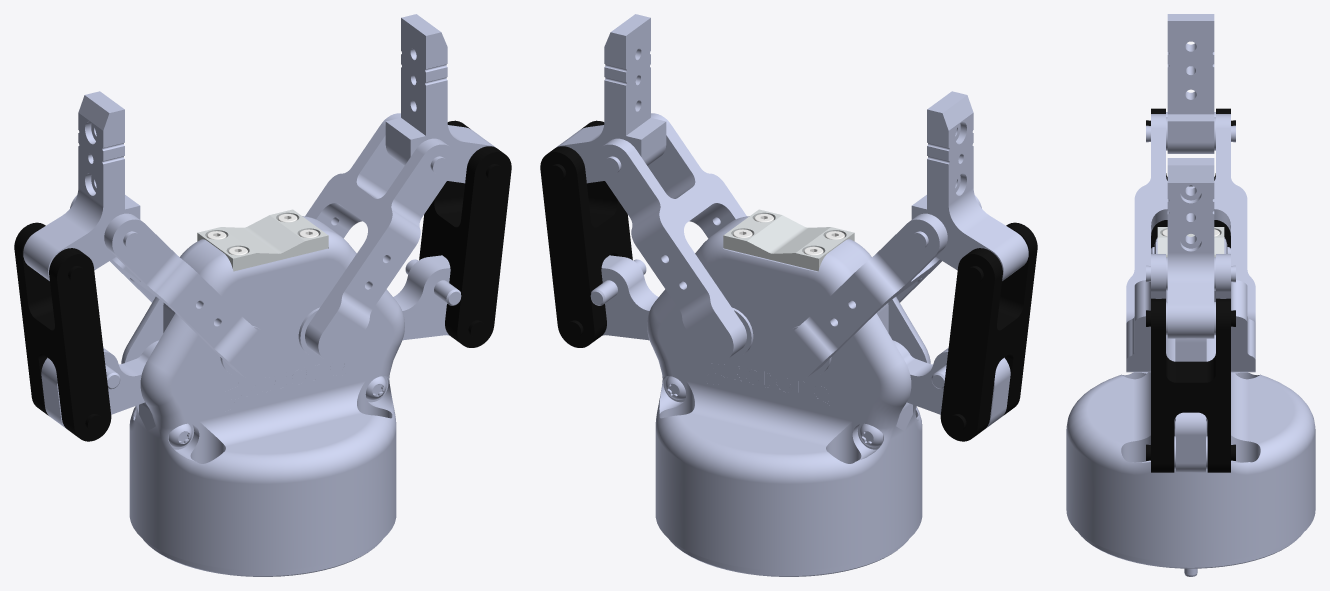
The model's file is gripper v3.fbx.
The picture shows the model from 3 angles, left to right: view 1: azimuth 30°, elevation 25°; view 2: azimuth 150°, elevation 25°; view 3: azimuth 270°, elevation 25°; orthographic projection. The views are drawn at different scales.
Parts seen in each view (by area): view 1: Body1 (×10); view 2: Body1 (×10); view 3: Body1 (×9).
Boxes of the visible parts, left/top/right/bottom form: Body1 (×10): left=14, top=14, right=511, bottom=576; Body1 (×10): left=540, top=14, right=1037, bottom=576; Body1 (×9): left=1066, top=14, right=1315, bottom=576.
Bounding box in the file's own units: 148 × 147 × 75.
